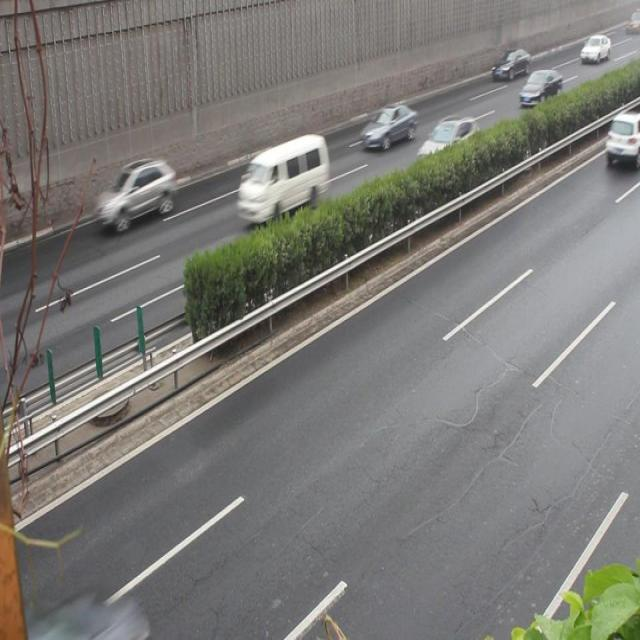car: (95, 157, 174, 231), (20, 596, 150, 640), (417, 115, 480, 169), (360, 103, 416, 153), (516, 69, 560, 105), (490, 48, 531, 81)
truck: (234, 130, 328, 223)
